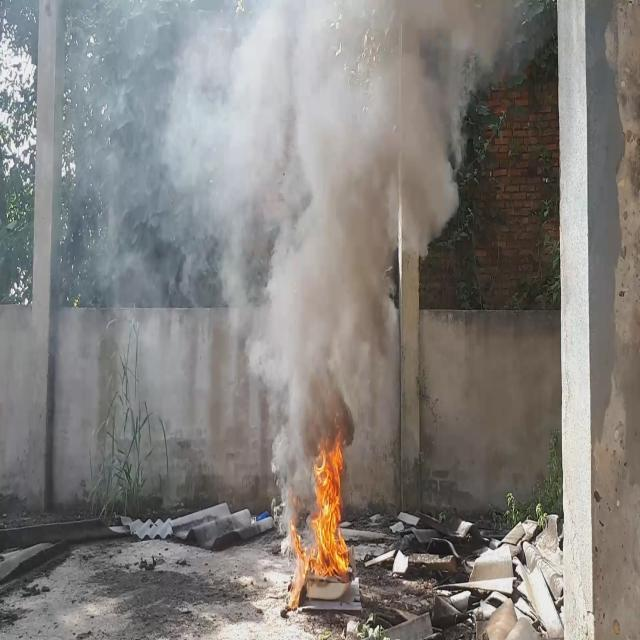Fire: (284, 419, 356, 612)
Smoke: (67, 0, 505, 482)
